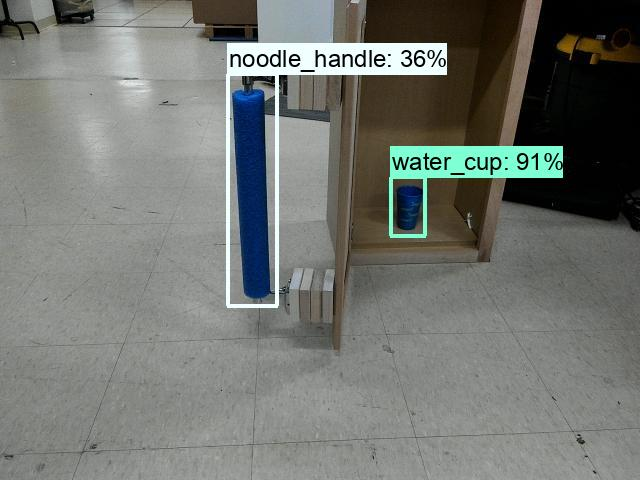noodle_handle: (223, 77, 283, 301)
water_cup: (393, 181, 422, 235)
